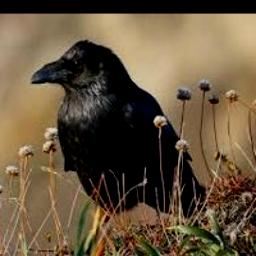Crow: (31, 38, 206, 220)
